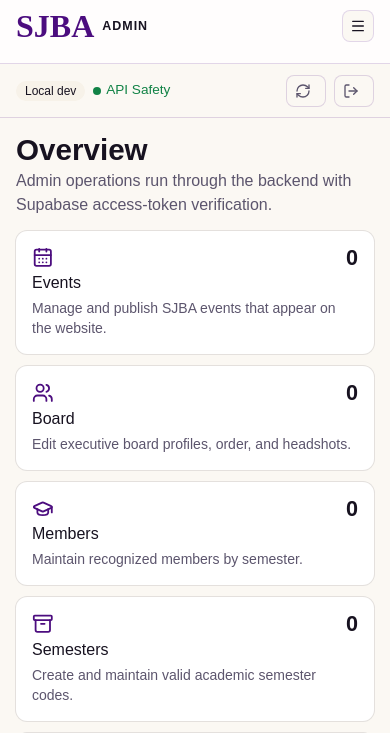
Test: App › opens the mobile admin menu and navigates to an object
What coordinates should you click on to do the following:
click the button named "open admin menu"
I would click on:
 (358, 26)
Its box is [342, 10, 374, 42].
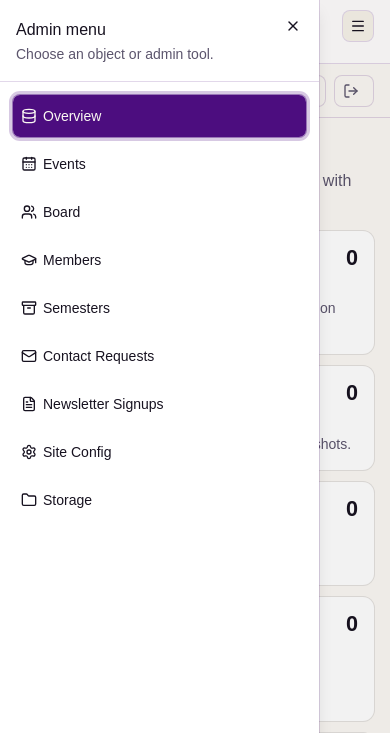
What coordinates should you click on to do the following:
click the button "Events"
I would click on:
 (64, 164)
Its box is [12, 142, 307, 186].
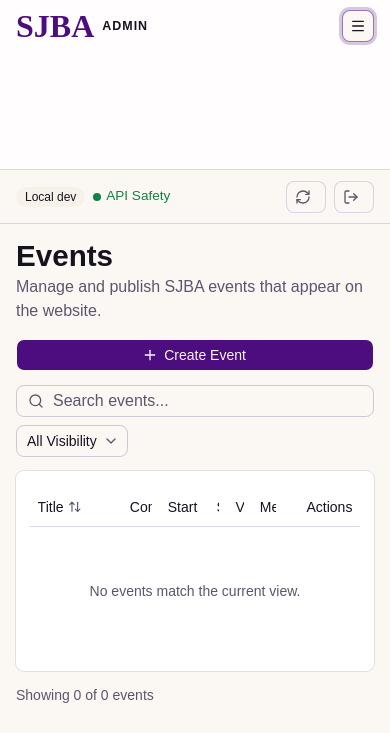
Expected: the heading "Events" is shown, [16, 239, 113, 272]
